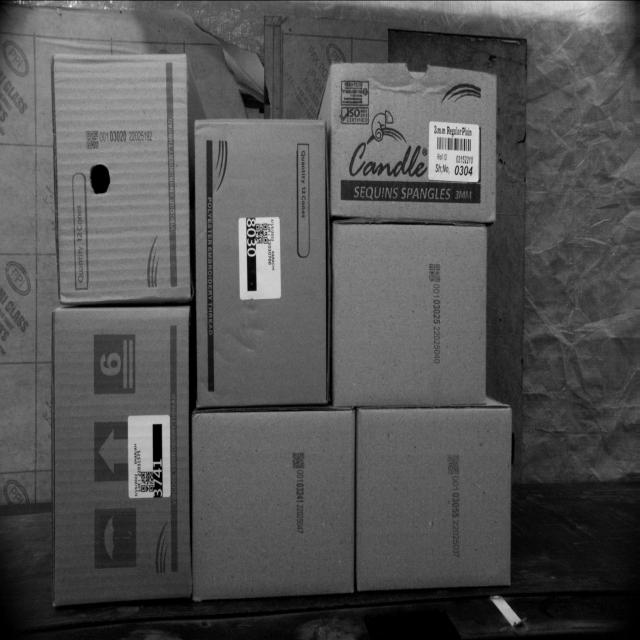cardboxes: (52, 303, 191, 608), (194, 119, 328, 406), (50, 49, 191, 300), (192, 409, 356, 601), (357, 403, 508, 596), (332, 226, 486, 403), (333, 60, 498, 218)
